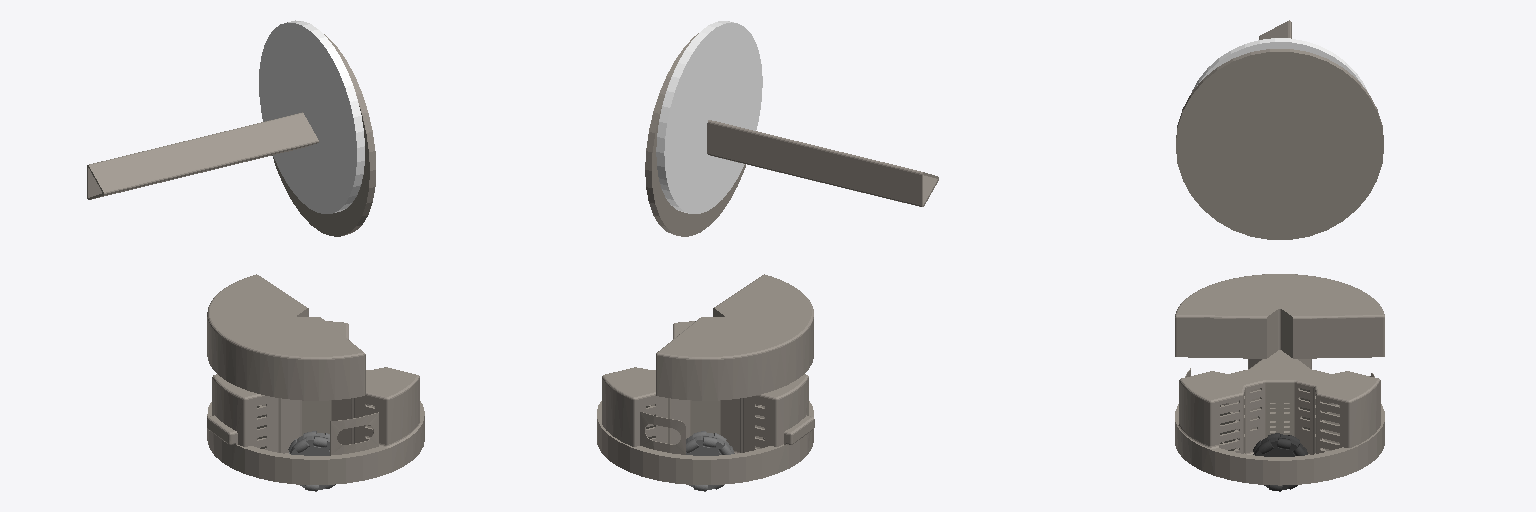
robot.urdf — robotino_description:
<?xml version="1.0"?>
<robot
  name="robotino_description">

  <link name="base_link">

</link>

  <link
    name="chasis_link">
    <inertial>
      <origin
        xyz="0.0750820912111434 -1.43156698820812E-05 0.168076535406779"
        rpy="0 0 0" />
      <mass
        value="90.5436543221932" />
      <inertia
        ixx="1.39918645658022"
        ixy="-0.000405479151189769"
        ixz="-0.0015543417266118"
        iyy="0.774326169008615"
        iyz="-3.63158115482574E-05"
        izz="1.88558197947867" />
    </inertial>
    <visual>
      <origin
        xyz="0 0 0"
        rpy="0 0 0" />
      <geometry>
        <mesh
          filename="package://robotino_description/meshes/chasis_link.STL" />
      </geometry>
      <material
        name="">
        <color
          rgba="0.647058823529412 0.619607843137255 0.588235294117647 1" />
      </material>
    </visual>
    <collision>
      <origin
        xyz="0 0 0"
        rpy="0 0 0" />
      <geometry>
        <mesh
          filename="package://robotino_description/meshes/chasis_link.STL" />
      </geometry>
    </collision>
  </link>

<joint name="chasis_joint" type="fixed">
  <parent link="base_link"/>
  <child link="chasis_link"/>
  <origin xyz="0 0 0.06"/>
</joint>

  <link
    name="rueda_link">
    <inertial>
      <origin
        xyz="-2.05967388977601E-10 1.31737952686374E-10 -0.000273477957212588"
        rpy="0 0 0" />
      <mass
        value="0.498106960399148" />
      <inertia
        ixx="0.000256159949378851"
        ixy="5.34153090637298E-14"
        ixz="-2.02762137050012E-13"
        iyy="0.000256159949082368"
        iyz="-5.17902095167097E-13"
        izz="0.000419607620337151" />
    </inertial>
    <visual>
      <origin
        xyz="0 0 0"
        rpy="0 0 0" />
      <geometry>
        <mesh
          filename="package://robotino_description/meshes/rueda_link.STL" />
      </geometry>
      <material
        name="">
        <color
          rgba="0.298039215686275 0.298039215686275 0.298039215686275 1" />
      </material>
    </visual>
    <collision>
      <origin
        xyz="0 0 0"
        rpy="0 0 0" />
      <geometry>
        <mesh
          filename="package://robotino_description/meshes/rueda_link.STL" />
      </geometry>
    </collision>
  </link>
  <joint
    name="rueda_joint"
    type="fixed">
    <origin
      xyz="0.17547 0 0"
      rpy="1.5708 0 1.5708" />
    <parent
      link="chasis_link" />
    <child
      link="rueda_link" />
    <axis
      xyz="0 0 0" />
    <dynamics
      damping="0.1"
      friction="0.1" />
  </joint>
  <link
    name="izquierda_link">
    <inertial>
      <origin
        xyz="-1.26204879880021E-11 -9.7027664982402E-11 -0.000273478049973019"
        rpy="0 0 0" />
      <mass
        value="0.498106963165628" />
      <inertia
        ixx="0.000256159949494238"
        ixy="5.74017999195233E-14"
        ixz="4.18944122015236E-14"
        iyy="0.000256159949093497"
        iyz="3.94879593317418E-14"
        izz="0.000419607619799673" />
    </inertial>
    <visual>
      <origin
        xyz="0 0 0"
        rpy="0 0 0" />
      <geometry>
        <mesh
          filename="package://robotino_description/meshes/izquierda_link.STL" />
      </geometry>
      <material
        name="">
        <color
          rgba="0.498039215686275 0.498039215686275 0.498039215686275 1" />
      </material>
    </visual>
    <collision>
      <origin
        xyz="0 0 0"
        rpy="0 0 0" />
      <geometry>
        <mesh
          filename="package://robotino_description/meshes/izquierda_link.STL" />
      </geometry>
    </collision>
  </link>
  <joint
    name="izquierda_joint"
    type="continuous">
    <origin
      xyz="-0.0877784602286706 0.151987458399034 0"
      rpy="1.5707963267949 0 -2.61799387799149" />
    <parent
      link="chasis_link" />
    <child
      link="izquierda_link" />
    <axis
      xyz="0 0 1" />
    <dynamics
      damping="0.1"
      friction="0.1" />
  </joint>
  <link
    name="derecha_link">
    <inertial>
      <origin
        xyz="-9.88611970065278E-11 9.65094390037793E-11 -0.000273478063246235"
        rpy="0 0 0" />
      <mass
        value="0.498106961392022" />
      <inertia
        ixx="0.00025615994928719"
        ixy="-5.1148624955304E-14"
        ixz="1.24456709180024E-13"
        iyy="0.000256159949293269"
        iyz="2.16307059306523E-13"
        izz="0.000419607620211318" />
    </inertial>
    <visual>
      <origin
        xyz="0 0 0"
        rpy="0 0 0" />
      <geometry>
        <mesh
          filename="package://robotino_description/meshes/derecha_link.STL" />
      </geometry>
      <material
        name="">
        <color
          rgba="0.498039215686275 0.498039215686275 0.498039215686275 1" />
      </material>
    </visual>
    <collision>
      <origin
        xyz="0 0 0"
        rpy="0 0 0" />
      <geometry>
        <mesh
          filename="package://robotino_description/meshes/derecha_link.STL" />
      </geometry>
    </collision>
  </link>
  <joint
    name="derecha_joint"
    type="continuous">
    <origin
      xyz="-0.087778460228671 -0.151987458329307 0"
      rpy="1.5707963267949 0 -0.523598775598295" />
    <parent
      link="chasis_link" />
    <child
      link="derecha_link" />
    <axis
      xyz="0 0 1" />
    <dynamics
      damping="0.1"
      friction="0.1" />
  </joint>
  <link
    name="palo_link">
    <inertial>
      <origin
        xyz="1.73472347597681E-16 -0.0873886605652484 -4.71844785465692E-16"
        rpy="0 0 0" />
      <mass
        value="6.20700555638337" />
      <inertia
        ixx="0.221613610672497"
        ixy="-2.37138546343171E-16"
        ixz="2.35922392732846E-16"
        iyy="0.117280747364722"
        iyz="1.5052169005132E-15"
        izz="0.2216136106725" />
    </inertial>
    <visual>
      <origin
        xyz="0 0 0"
        rpy="0 0 0" />
      <geometry>
        <mesh
          filename="package://robotino_description/meshes/palo_link.STL" />
      </geometry>
      <material
        name="">
        <color
          rgba="0.647058823529412 0.619607843137255 0.588235294117647 1" />
      </material>
    </visual>
    <collision>
      <origin
        xyz="0 0 0"
        rpy="0 0 0" />
      <geometry>
        <mesh
          filename="package://robotino_description/meshes/palo_link.STL" />
      </geometry>
    </collision>
  </link>
  <joint
    name="palo_joint"
    type="fixed">
    <origin
      xyz="-2.846E-05 0 0.695"
      rpy="1.5708 0 1.5708" />
    <parent
      link="chasis_link" />
    <child
      link="palo_link" />
    <axis
      xyz="0 0 0" />
  </joint>
  <link
    name="bandeja_peque_link">
    <inertial>
      <origin
        xyz="0 -0.0099999999999999 -2.77555756156289E-17"
        rpy="0 0 0" />
      <mass
        value="1.55169544346107" />
      <inertia
        ixx="0.017159165445607"
        ixy="-2.40741243048404E-35"
        ixz="8.67361737988404E-19"
        iyy="0.0342148845283166"
        iyz="3.8677229917804E-19"
        izz="0.017159165445607" />
    </inertial>
    <visual>
      <origin
        xyz="0 0 0"
        rpy="0 0 0" />
      <geometry>
        <mesh
          filename="package://robotino_description/meshes/bandeja_peque_link.STL" />
      </geometry>
      <material
        name="">
        <color
          rgba="1 1 1 1" />
      </material>
    </visual>
    <collision>
      <origin
        xyz="0 0 0"
        rpy="0 0 0" />
      <geometry>
        <mesh
          filename="package://robotino_description/meshes/bandeja_peque_link.STL" />
      </geometry>
    </collision>
  </link>
  <joint
    name="bandeja_peque_joint"
    type="continuous">
    <origin
      xyz="-2.846E-05 0 0.731"
      rpy="1.5708 0 1.5708" />
    <parent
      link="chasis_link" />
    <child
      link="bandeja_peque_link" />
    <axis
      xyz="0 1 0" />
  </joint>
</robot>

--- Render facts (derived) ---
Views: 3 orthographic renders of the robot side by side, from view 1: azimuth 30°, elevation 25°; view 2: azimuth 150°, elevation 25°; view 3: azimuth 270°, elevation 25°.
Model robotino_description with 7 links and 6 joints (3 continuous, 3 fixed), rooted at base_link, posed every joint at zero.
Visible links, largest first — view 1: chasis_link, bandeja_peque_link, palo_link, derecha_link; view 2: chasis_link, bandeja_peque_link, palo_link, izquierda_link; view 3: chasis_link, palo_link, bandeja_peque_link, rueda_link.
Link boxes in pixels (x1,y1,x2,y2): chasis_link: (207, 274, 424, 484); bandeja_peque_link: (259, 20, 364, 213); palo_link: (87, 34, 375, 236); derecha_link: (288, 431, 335, 491); chasis_link: (597, 274, 814, 484); bandeja_peque_link: (656, 21, 762, 213); palo_link: (645, 33, 938, 236); izquierda_link: (686, 431, 734, 491); chasis_link: (1175, 274, 1384, 485); palo_link: (1176, 20, 1383, 239); bandeja_peque_link: (1192, 38, 1367, 91); rueda_link: (1253, 433, 1307, 491).
Bounding box of the posed robot: 0.7826 × 0.464 × 1 m (x, y, z).
Meshes: 6 distinct files referenced, 6 mesh visuals loaded (6 binary STL).
